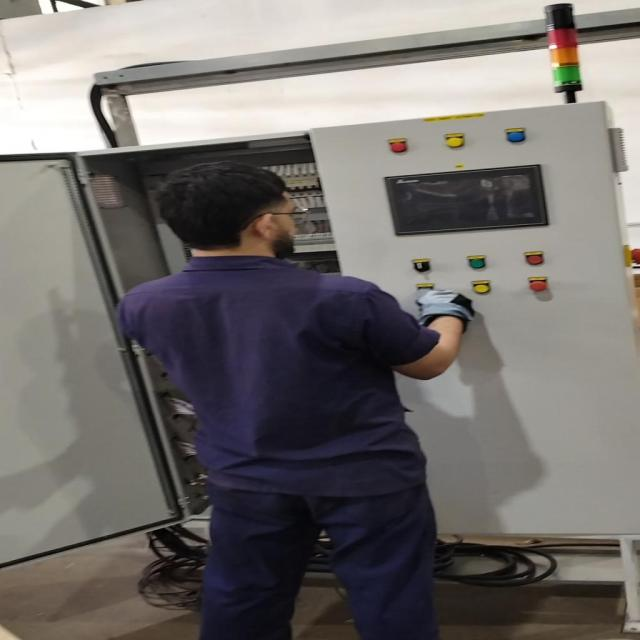Gloves-Detection: (406, 289, 482, 341)
